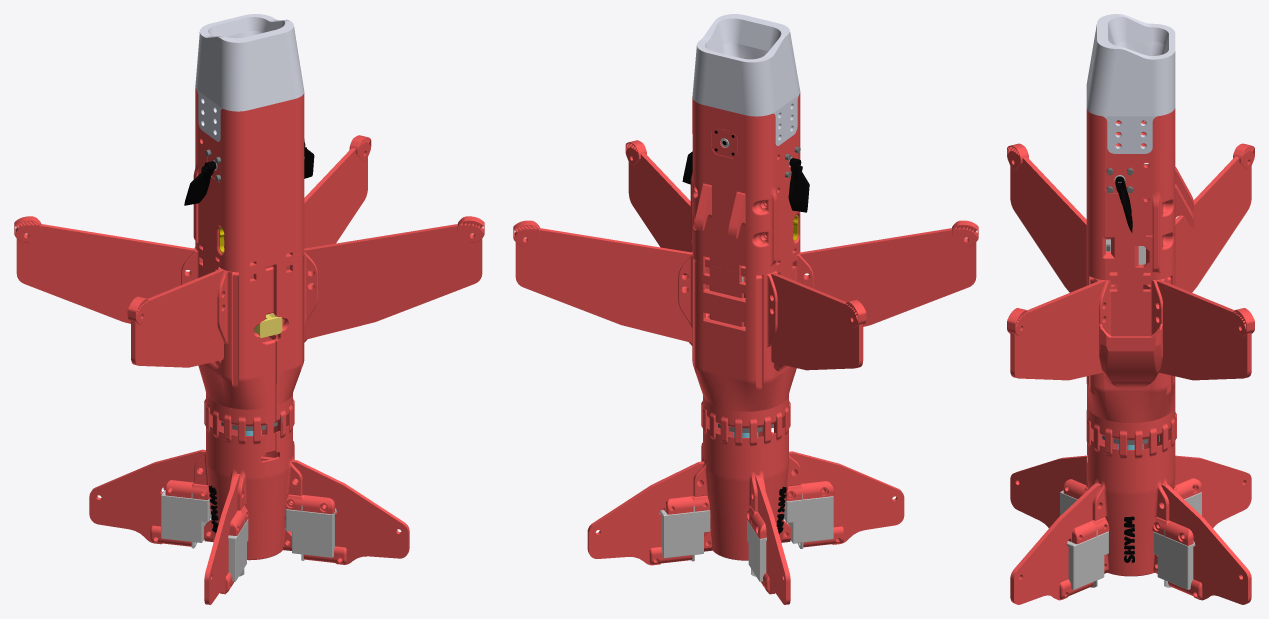
The model's file is xwing1.glb.
The picture shows the model from 3 angles, left to right: view 1: azimuth 30°, elevation 25°; view 2: azimuth 150°, elevation 25°; view 3: azimuth 270°, elevation 25°; orthographic projection. The views are drawn at different scales.
Visible parts, largest first — view 1: crossblade-1, RoboMaster_Dart_Trigger_Device-1, canard-2; view 2: crossblade-1, RoboMaster_Dart_Trigger_Device-1, canard-2; view 3: crossblade-1, RoboMaster_Dart_Trigger_Device-1, canard-1.
Part boxes in pixels (<box>): crossblade-1: <box>14,87,484,604</box>; RoboMaster_Dart_Trigger_Device-1: <box>195,14,304,141</box>; canard-2: <box>184,161,216,205</box>; crossblade-1: <box>513,92,978,604</box>; RoboMaster_Dart_Trigger_Device-1: <box>692,14,800,145</box>; canard-2: <box>788,158,809,212</box>; crossblade-1: <box>1007,108,1254,604</box>; RoboMaster_Dart_Trigger_Device-1: <box>1086,14,1175,153</box>; canard-1: <box>1115,176,1132,232</box>.
Bounding box in the file's own units: 0.1673 × 0.2366 × 0.0988.
